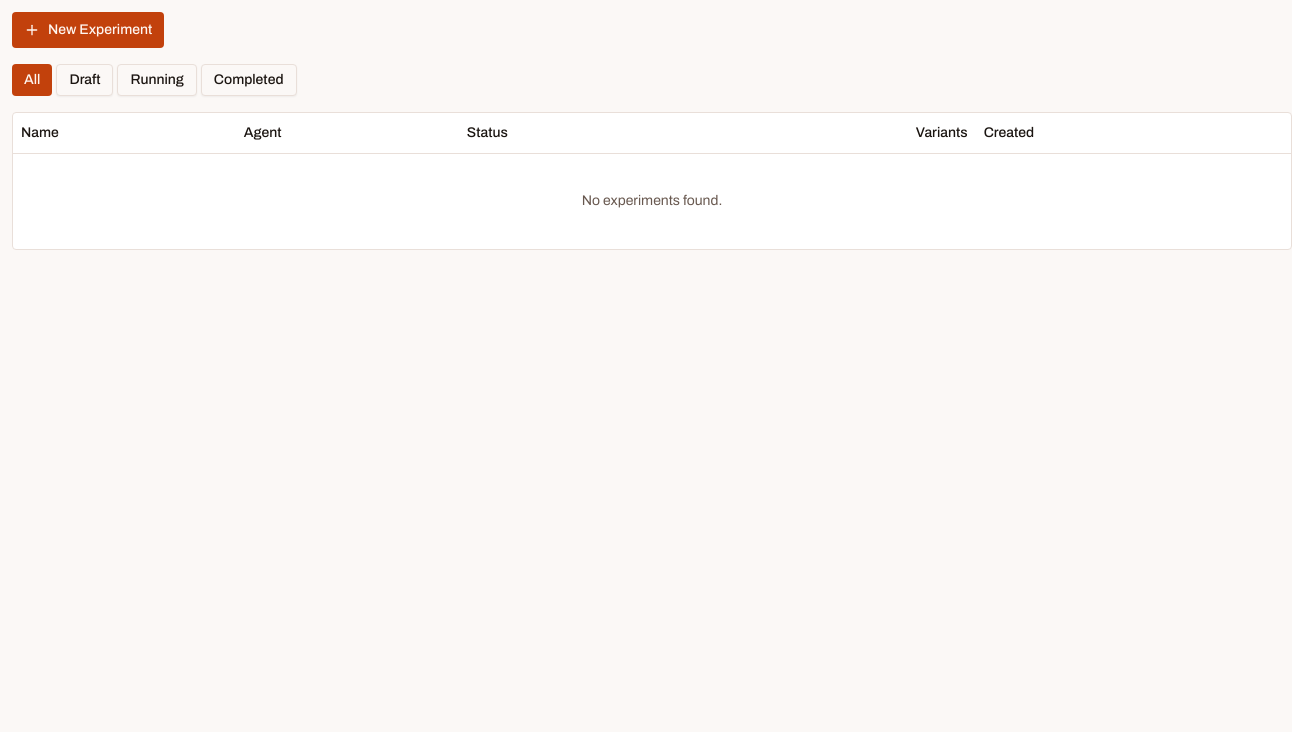
it: ExperimentsList › Agents loading in create form › shows "No agents found" message when agent list is empty
The width and height of the screenshot is (1292, 732).
Click the button "New Experiment".
click(88, 30)  # box [12, 12, 164, 48]
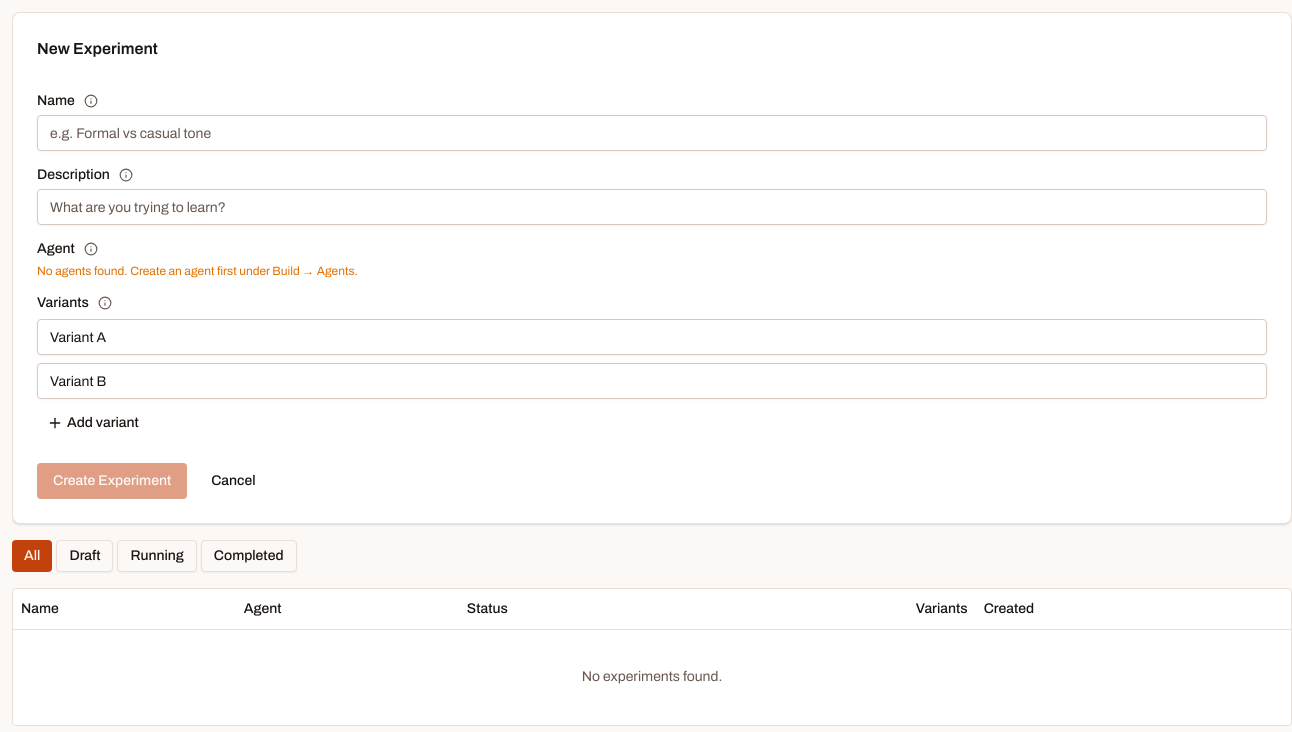
Result: the text "No agents found. Create an agent first under Build → Agents." is shown at [37, 264, 358, 278]
